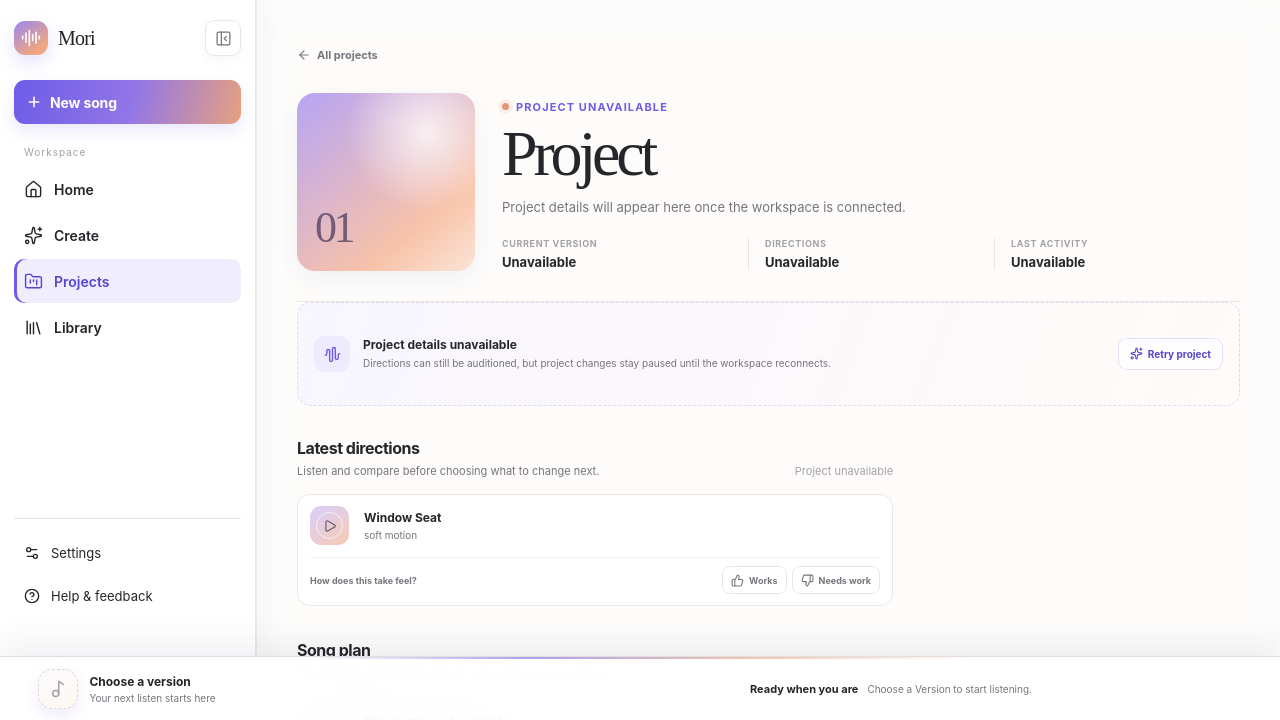
Test: Mori project overview › does not present an unavailable Project as active and reconnects on retry
The width and height of the screenshot is (1280, 720).
Expected: the message named "Project projection" shows "Project details unavailable", [363,337,517,352]
Expected: the text "Active project" is not shown
Click the button "Retry project".
click(1170, 354)  # box [1118,338,1223,370]
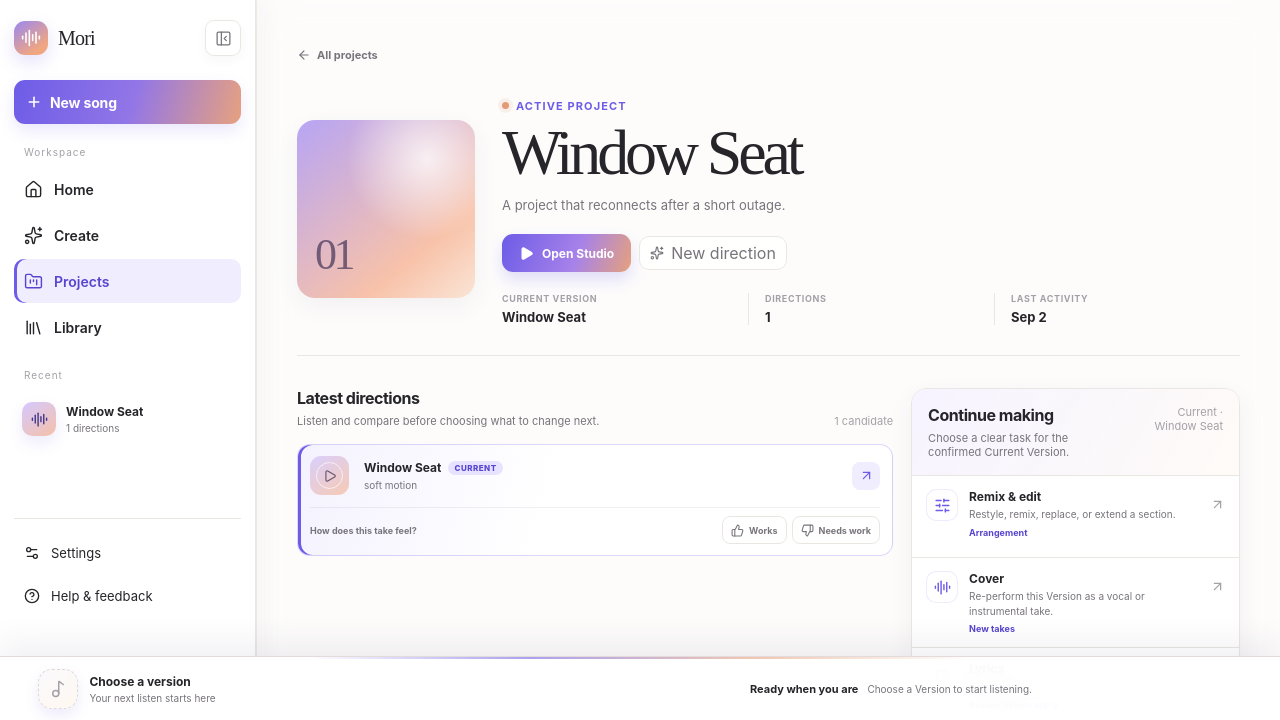
Result: the heading "Window Seat" is shown at [502,116,800,188]
Result: the text "Active project" is shown at [502,98,627,112]
